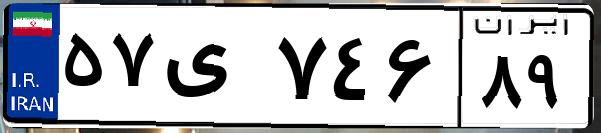4: (330, 28, 385, 110)
5: (57, 26, 110, 100)
6: (385, 28, 445, 110)
7: (270, 28, 330, 110), (110, 28, 158, 98)
8: (475, 38, 525, 113)
9: (525, 38, 570, 115)
ی: (158, 20, 270, 120)
